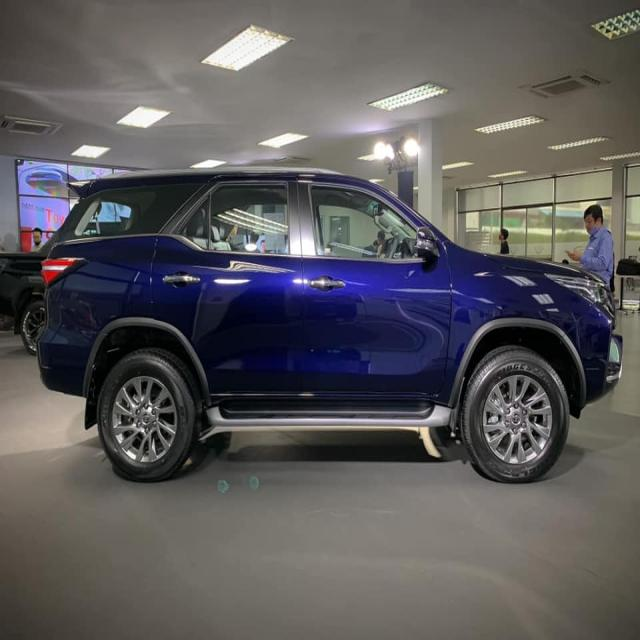light_vehicle: (29, 166, 624, 487)
